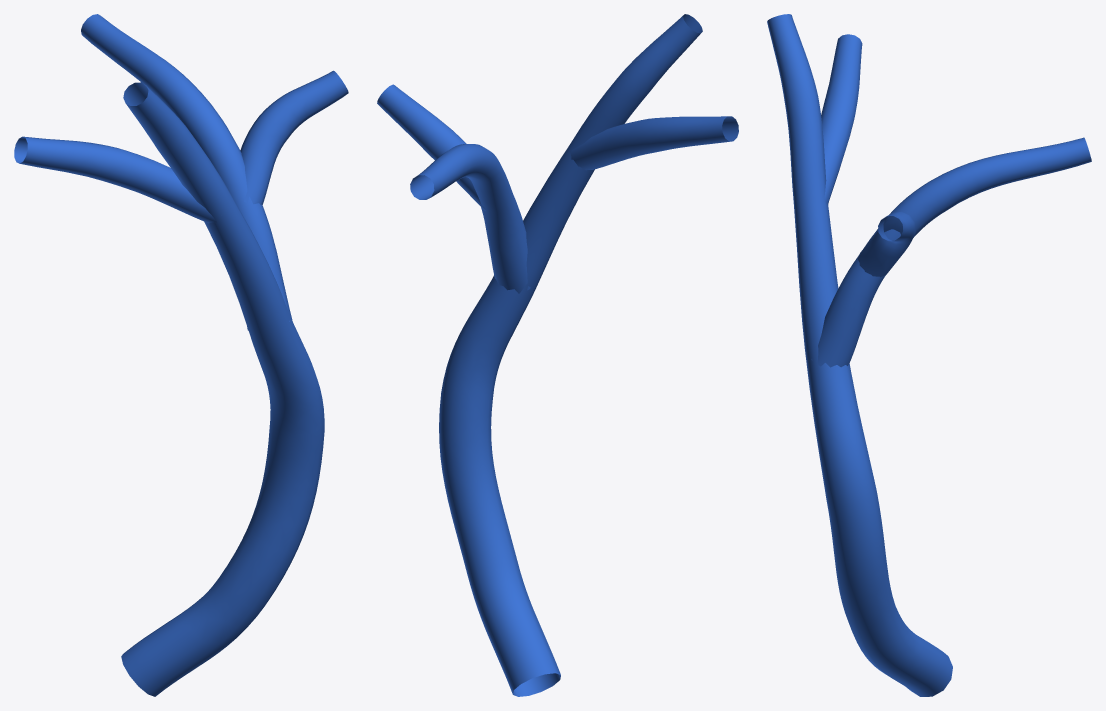
Rendered from circulatorio-apical-segmental-artery-of-left-lung.glb.
The picture shows the model from 3 angles, left to right: view 1: azimuth 30°, elevation 25°; view 2: azimuth 150°, elevation 25°; view 3: azimuth 270°, elevation 25°; orthographic projection. The views are drawn at different scales.
Parts seen in each view (by area): view 1: Apical segmental artery of left lung; view 2: Apical segmental artery of left lung; view 3: Apical segmental artery of left lung.
Boxes of the visible parts, <box> form: Apical segmental artery of left lung: <box>14,14,348,696</box>; Apical segmental artery of left lung: <box>377,14,738,696</box>; Apical segmental artery of left lung: <box>767,14,1091,696</box>.
Bounding box in the file's own units: 0.0442 × 0.0826 × 0.0379.
